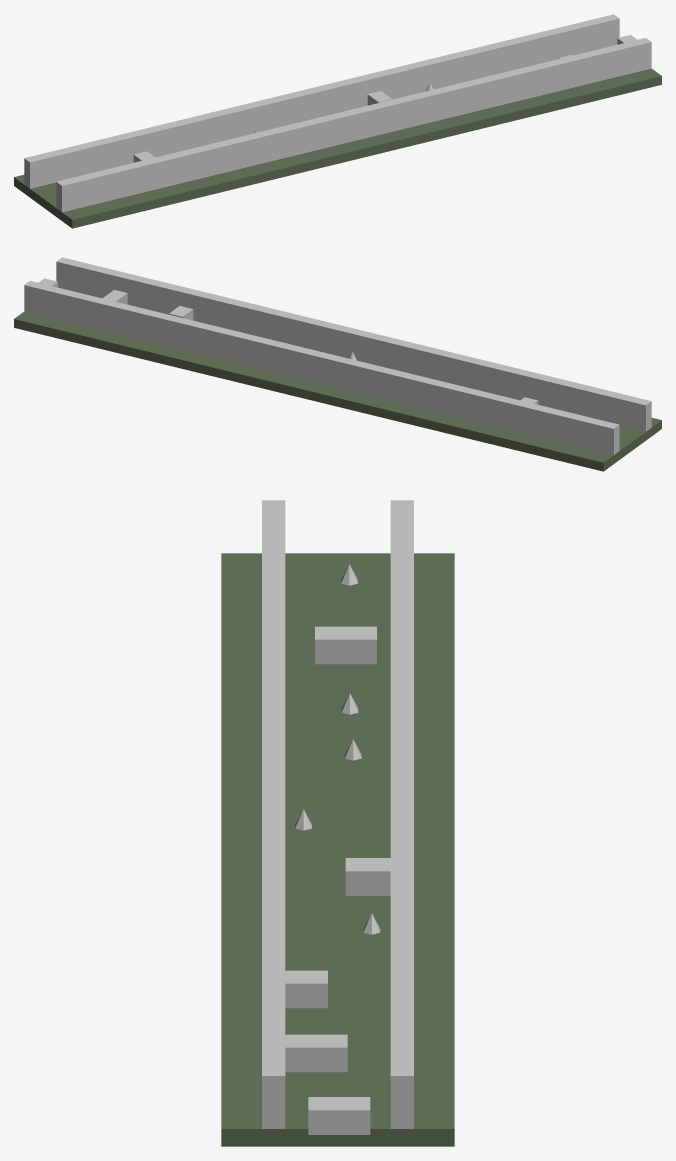
File: neon-corridor__layout_main.obj
The picture shows the model from 3 angles, top to bottom: view 1: azimuth 30°, elevation 25°; view 2: azimuth 150°, elevation 25°; view 3: azimuth 270°, elevation 25°; orthographic projection. The views are drawn at different scales.
Visible parts, largest first — view 1: walls, floor, obstacles; view 2: walls, floor, obstacles; view 3: floor, walls, obstacles.
Boxes of the visible parts, bbox=[...] form: walls: bbox=[24, 14, 651, 212]; floor: bbox=[14, 68, 661, 228]; obstacles: bbox=[77, 35, 637, 176]; walls: bbox=[24, 257, 651, 455]; floor: bbox=[14, 311, 661, 471]; obstacles: bbox=[38, 278, 538, 404]; floor: bbox=[221, 553, 454, 1146]; walls: bbox=[262, 500, 413, 1128]; obstacles: bbox=[285, 564, 390, 1134].
Bounding box in the file's own units: 70.73 × 4 × 12.
